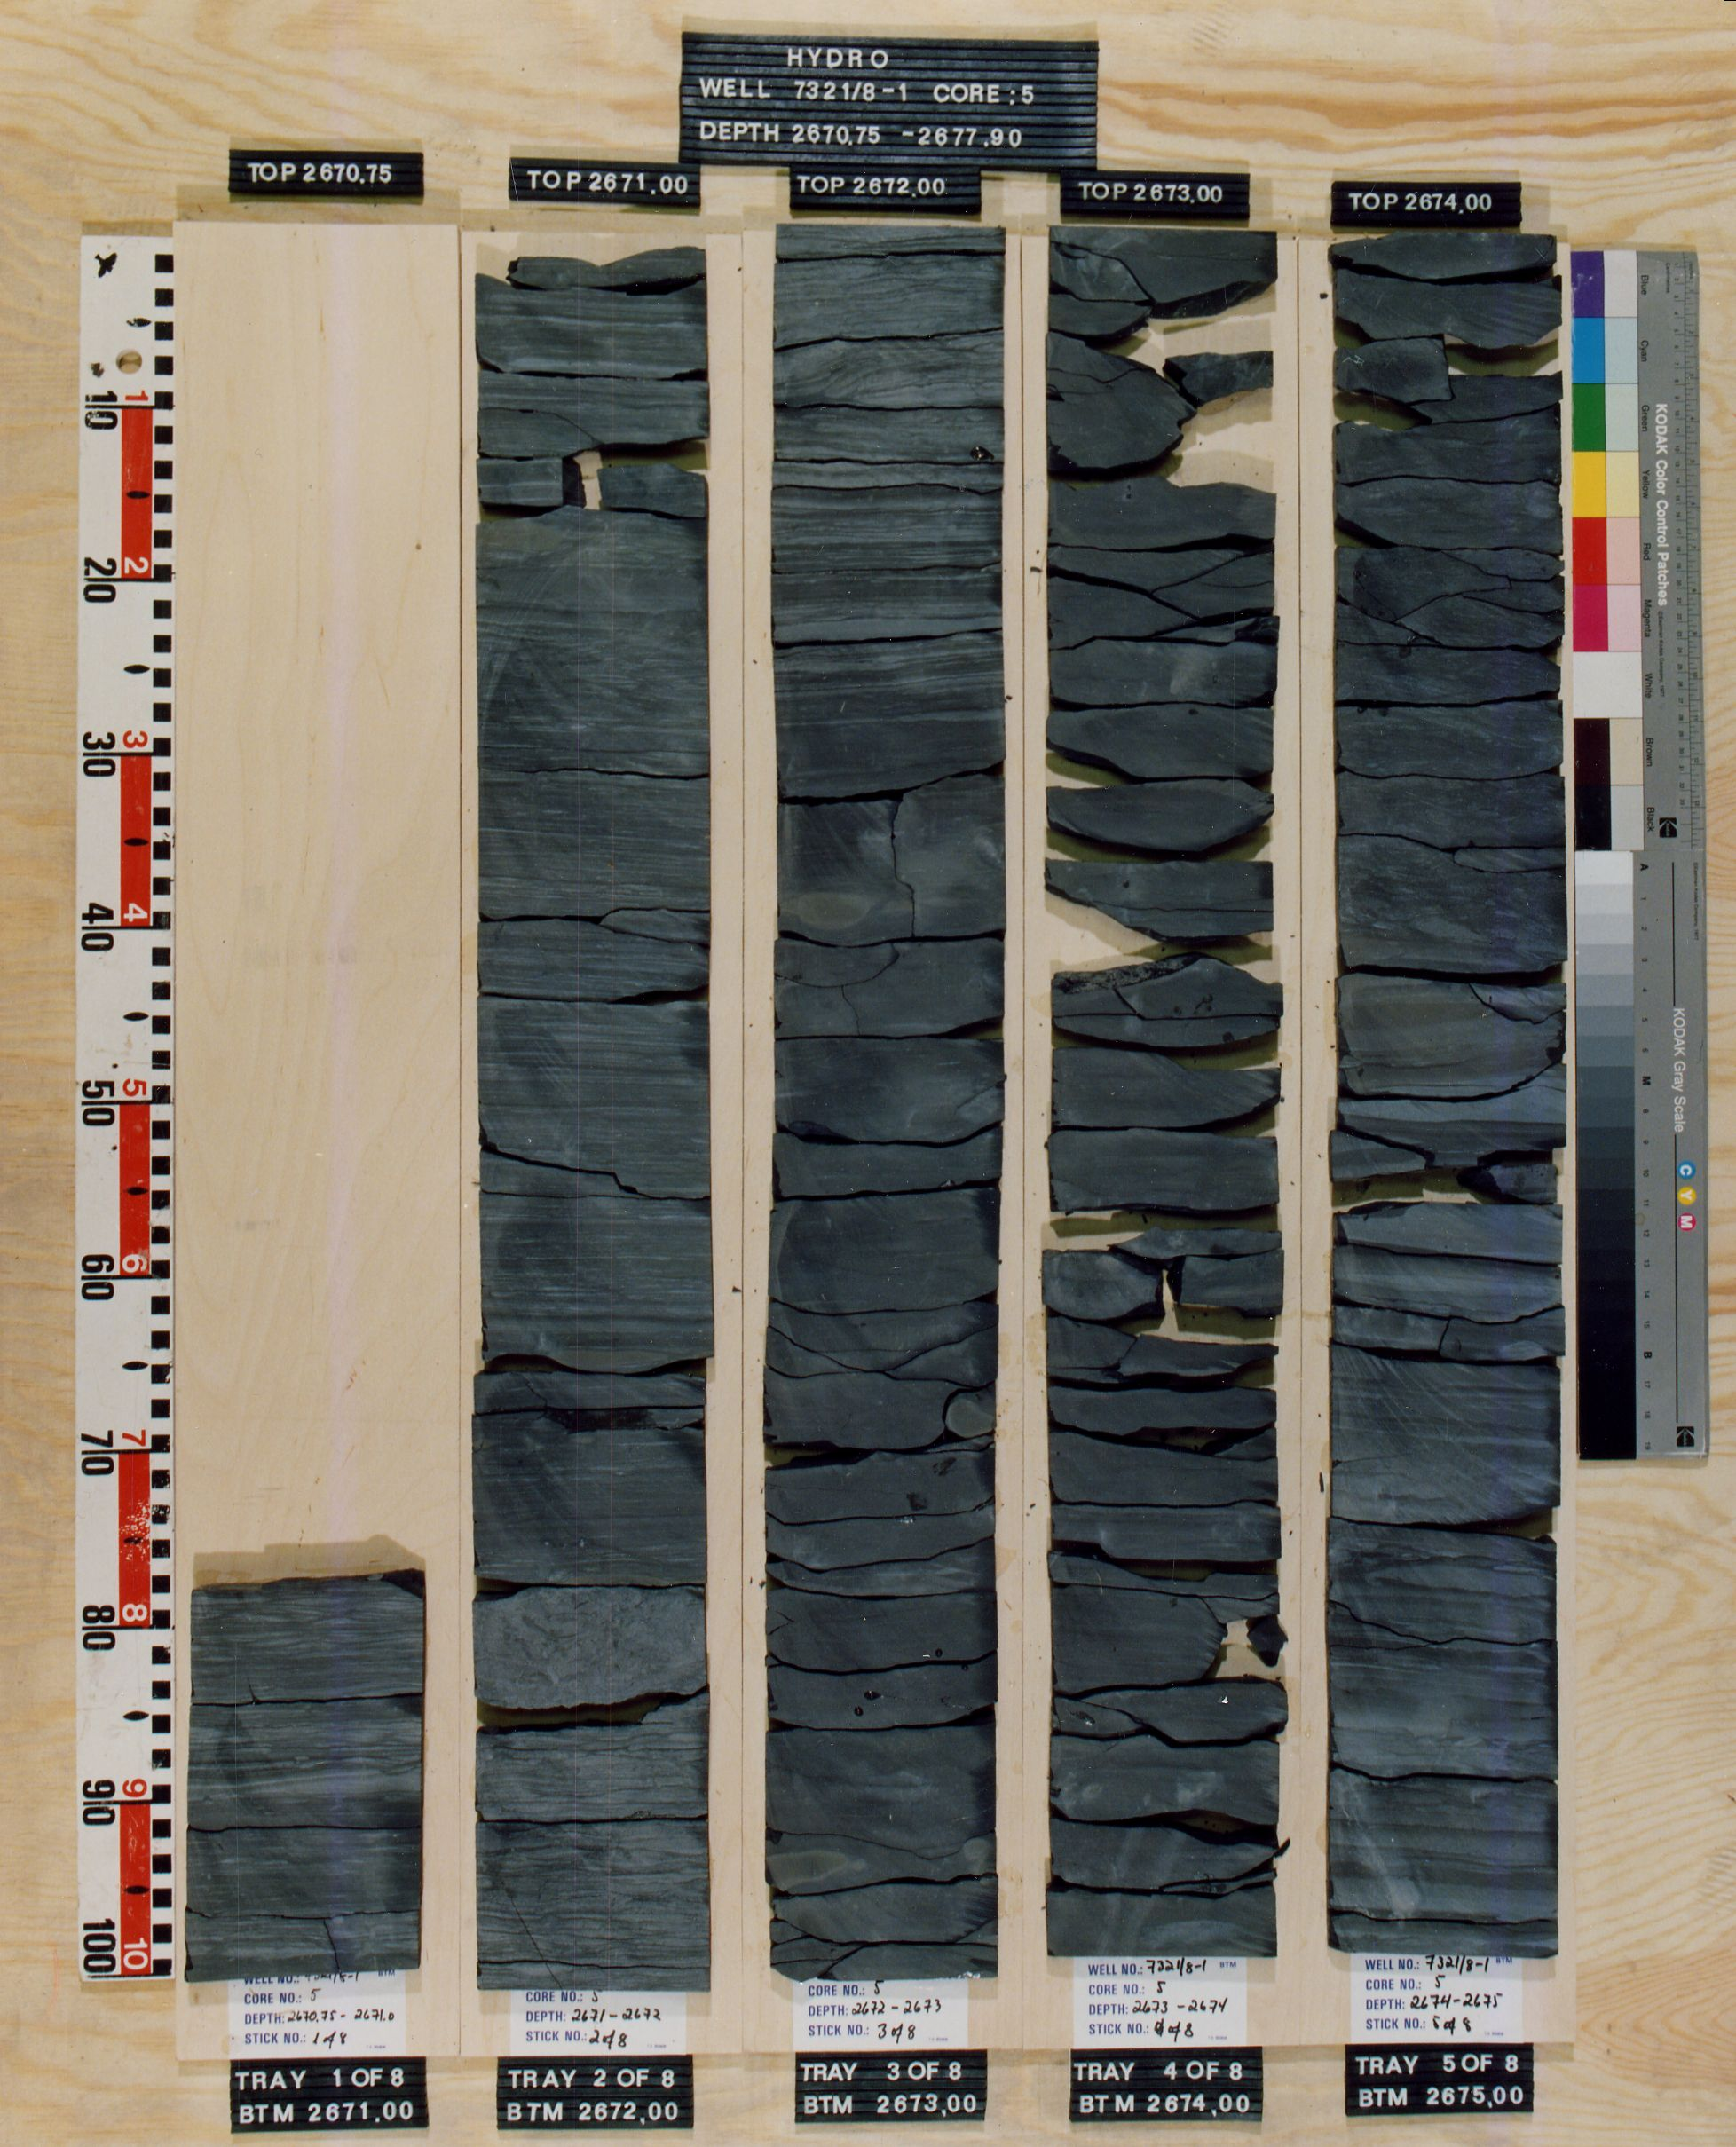core: (758, 220, 1004, 1980), (473, 243, 716, 1989), (1040, 225, 1279, 1963), (1327, 232, 1568, 1954), (186, 1573, 423, 1975)
